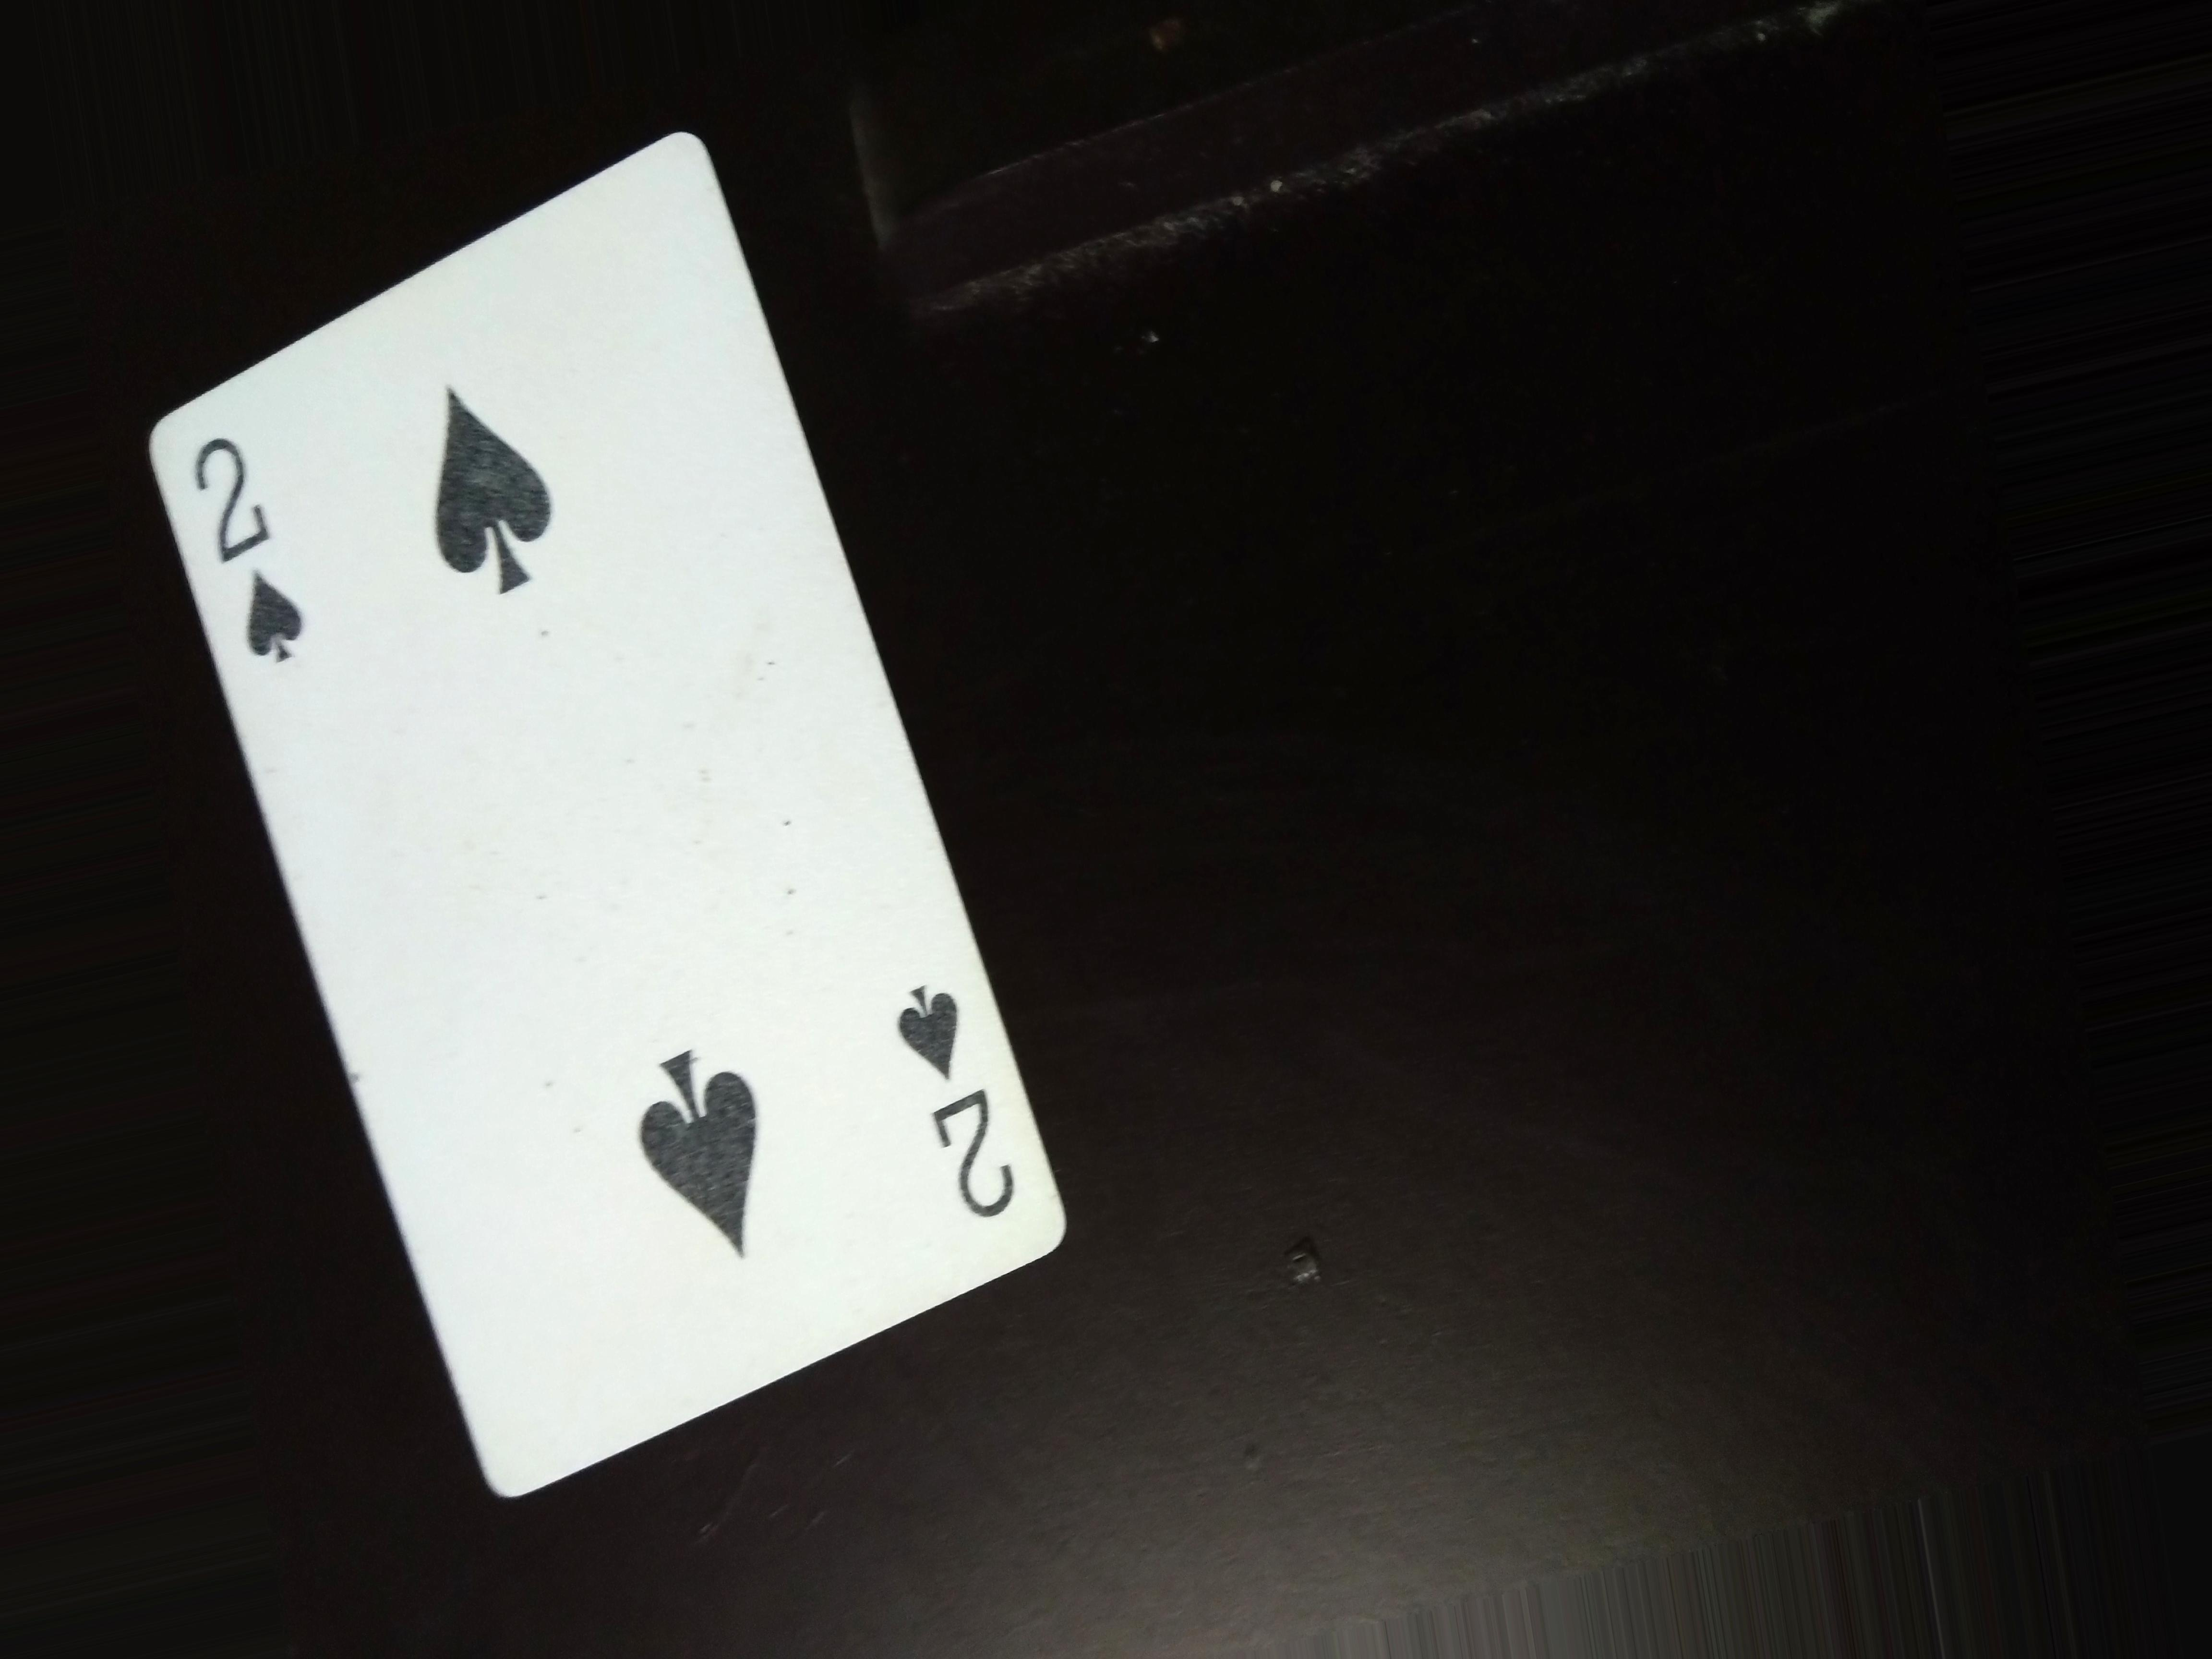2S: (176, 430, 350, 680)
